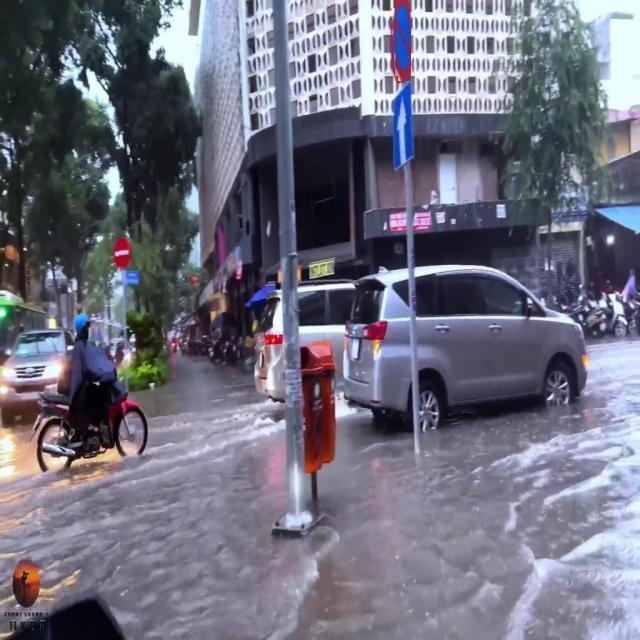102-cam-di-nguoc-chieu: (112, 237, 132, 270)
131a-cam-do-xe: (390, 1, 412, 81)
407a-duong-mot-chieu: (393, 81, 414, 170)
